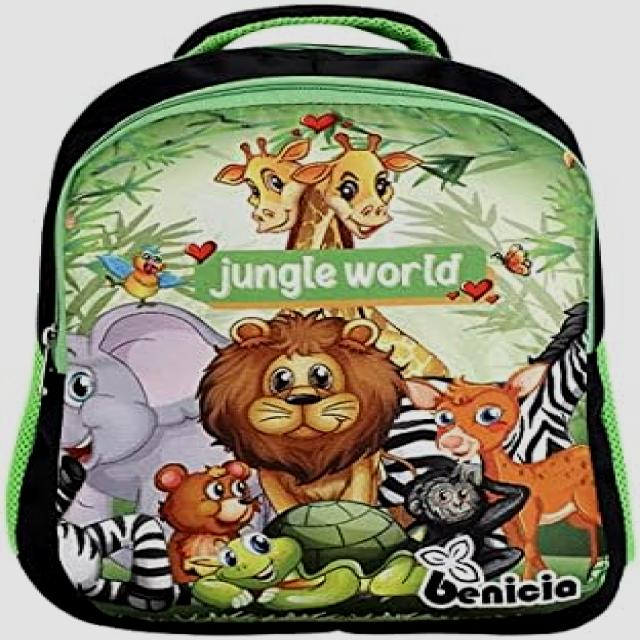backpack: (1, 1, 637, 638)
